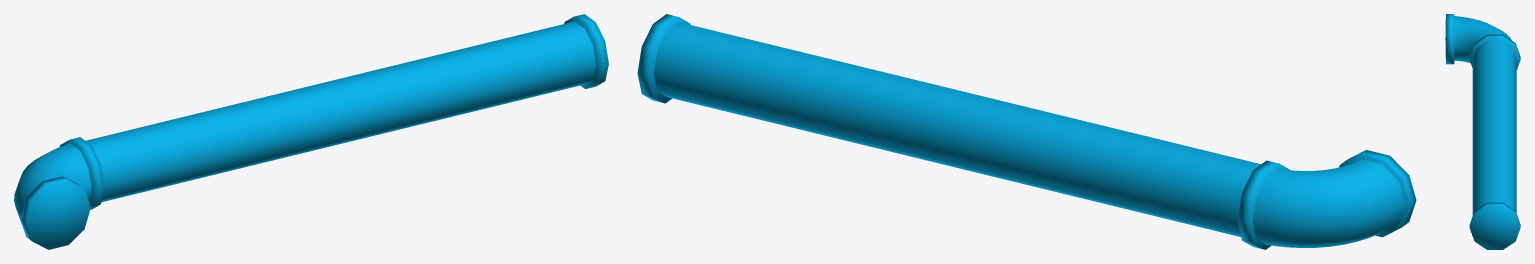
Rendered from Factory_Pipe_01_Lod0.fbx.
3 renders of one model, left to right at view 1: azimuth 30°, elevation 25°; view 2: azimuth 150°, elevation 25°; view 3: azimuth 270°, elevation 25°, orthographic. The views are drawn at different scales.
Visible parts, largest first — view 1: Factory_Pipe_01_Lod0; view 2: Factory_Pipe_01_Lod0; view 3: Factory_Pipe_01_Lod0.
Boxes of the visible parts, box(x1,y1,x2,y2) form: Factory_Pipe_01_Lod0: box(14, 14, 608, 249); Factory_Pipe_01_Lod0: box(637, 14, 1416, 249); Factory_Pipe_01_Lod0: box(1445, 14, 1520, 249).
Bounding box in the file's own units: 404 × 41.41 × 64.07.
